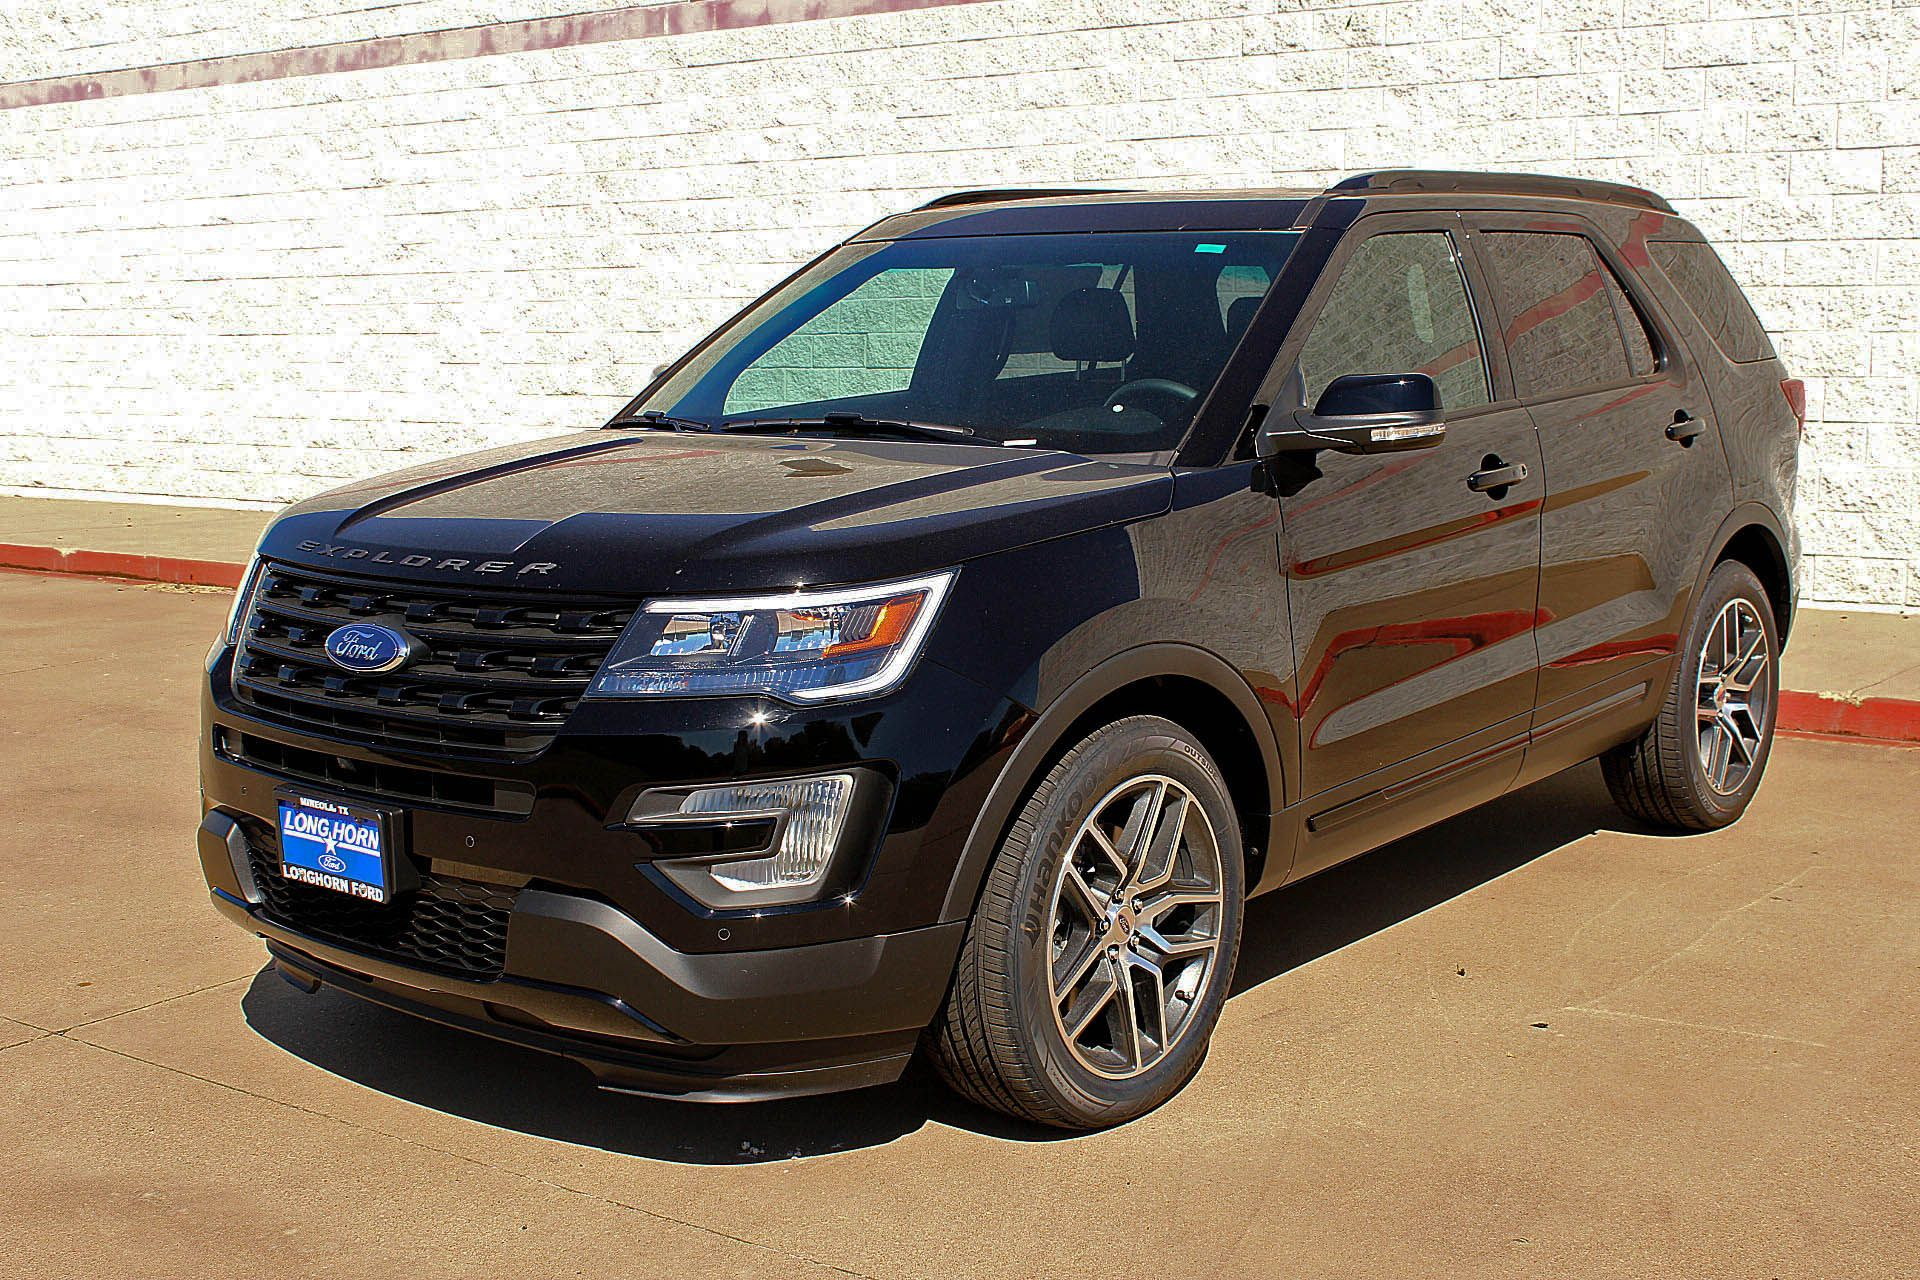Ford Explorer: (197, 177, 1801, 1139)
